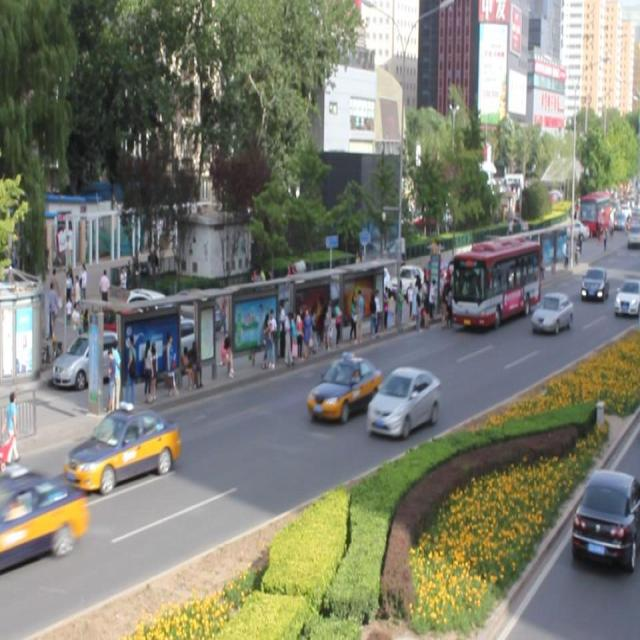car: (66, 404, 180, 490), (1, 471, 86, 570), (366, 364, 439, 435), (307, 352, 382, 421), (530, 288, 573, 332), (579, 263, 608, 299), (614, 276, 640, 314)
van: (447, 232, 538, 326)
